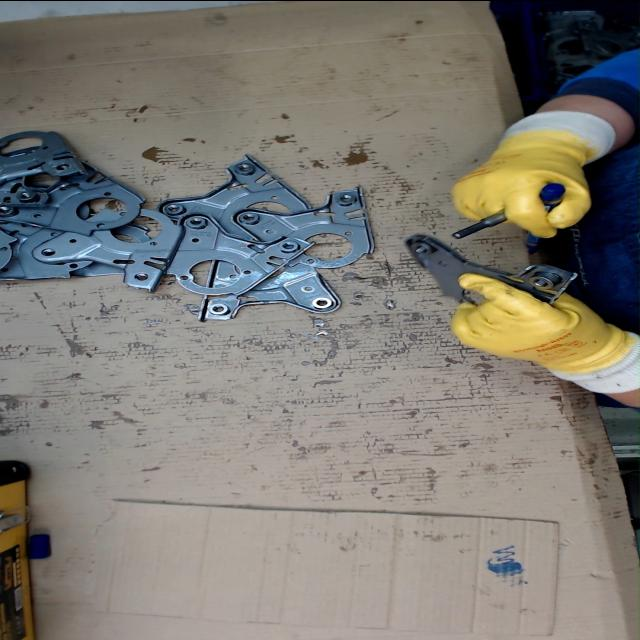hands: (450, 272, 632, 369), (451, 130, 591, 238)
